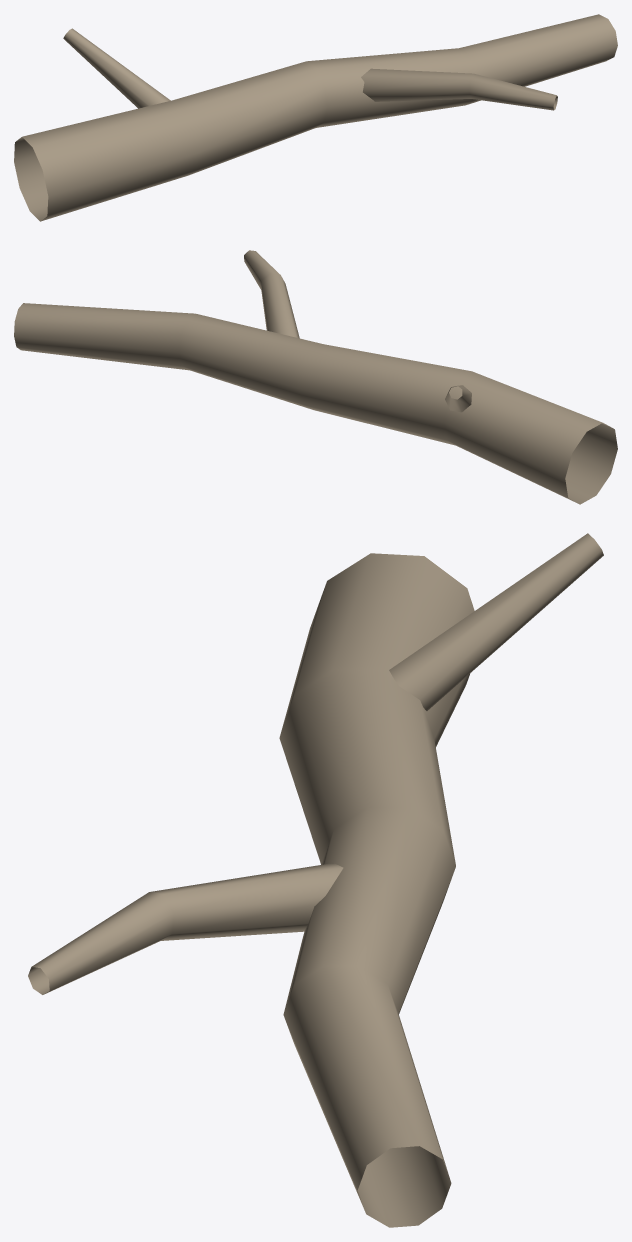
Rendered from driftwood.glb.
3 views of the same model, one above another, from view 1: azimuth 30°, elevation 25°; view 2: azimuth 150°, elevation 25°; view 3: azimuth 270°, elevation 25° (orthographic). The views are drawn at different scales.
Visible parts, largest first — view 1: driftwood_main; view 2: driftwood_main; view 3: driftwood_main.
Boxes of the visible parts, x1,y1,x2,y2 form: driftwood_main: (14,14,617,221); driftwood_main: (14,250,617,504); driftwood_main: (28,533,603,1227).
Bounding box in the file's own units: 1.68 × 0.3596 × 0.7253.
